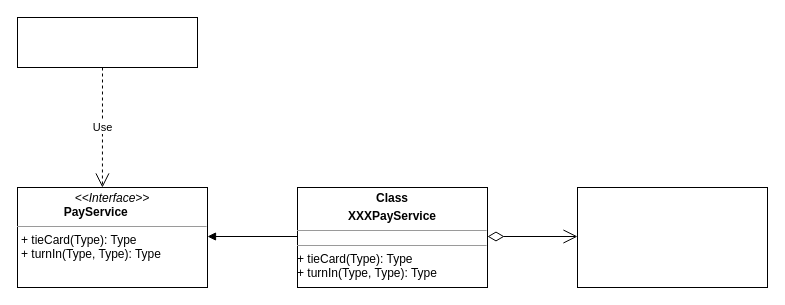
Some shapes in this 785 by 305 pixel diagram are drawn without their labels. Here are the shapes that lost their labels. From the top down, the centre of each, then its label:
point 107,42: client
point 672,237: Class XXXPay + tieCard(Type): Type + turnIn(Type, Type): Type
